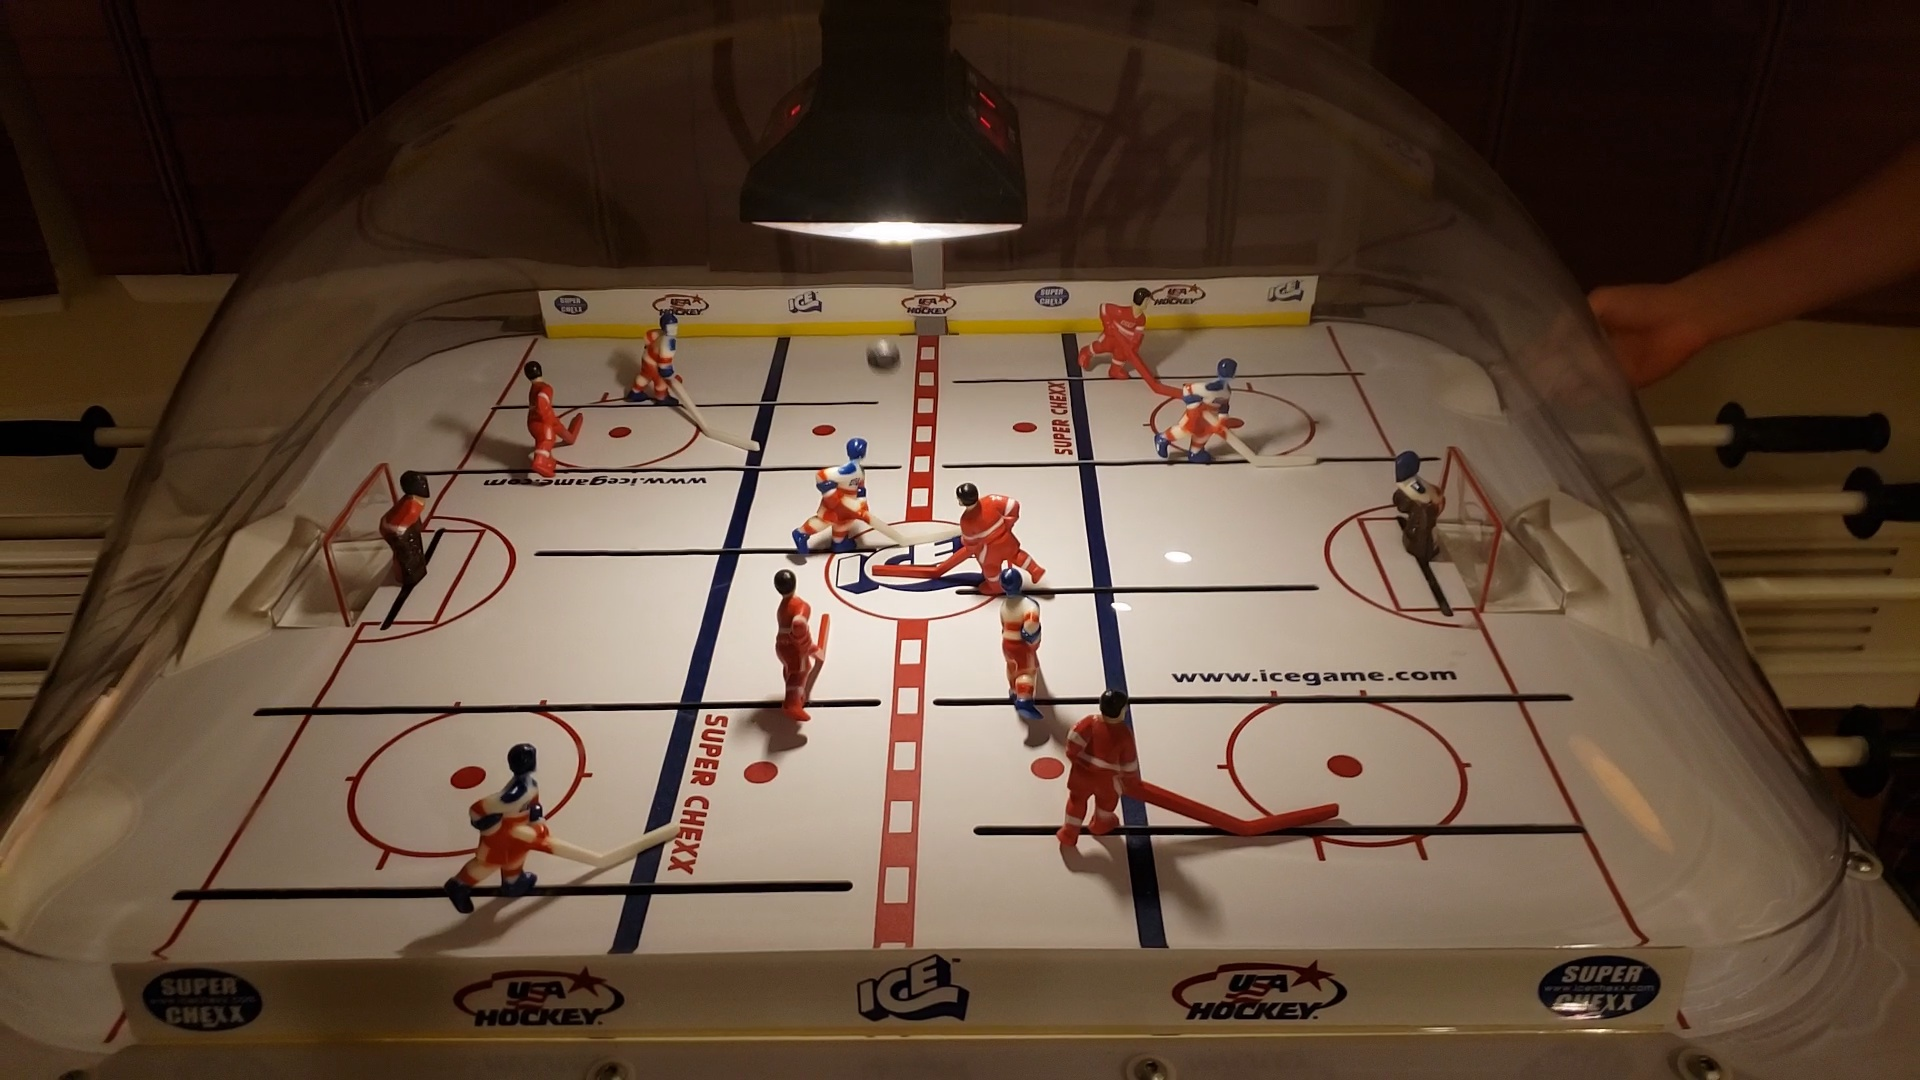puck: (862, 336, 909, 375)
